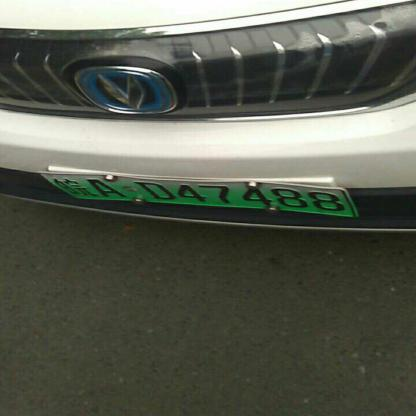lp: (41, 174, 79, 214)
